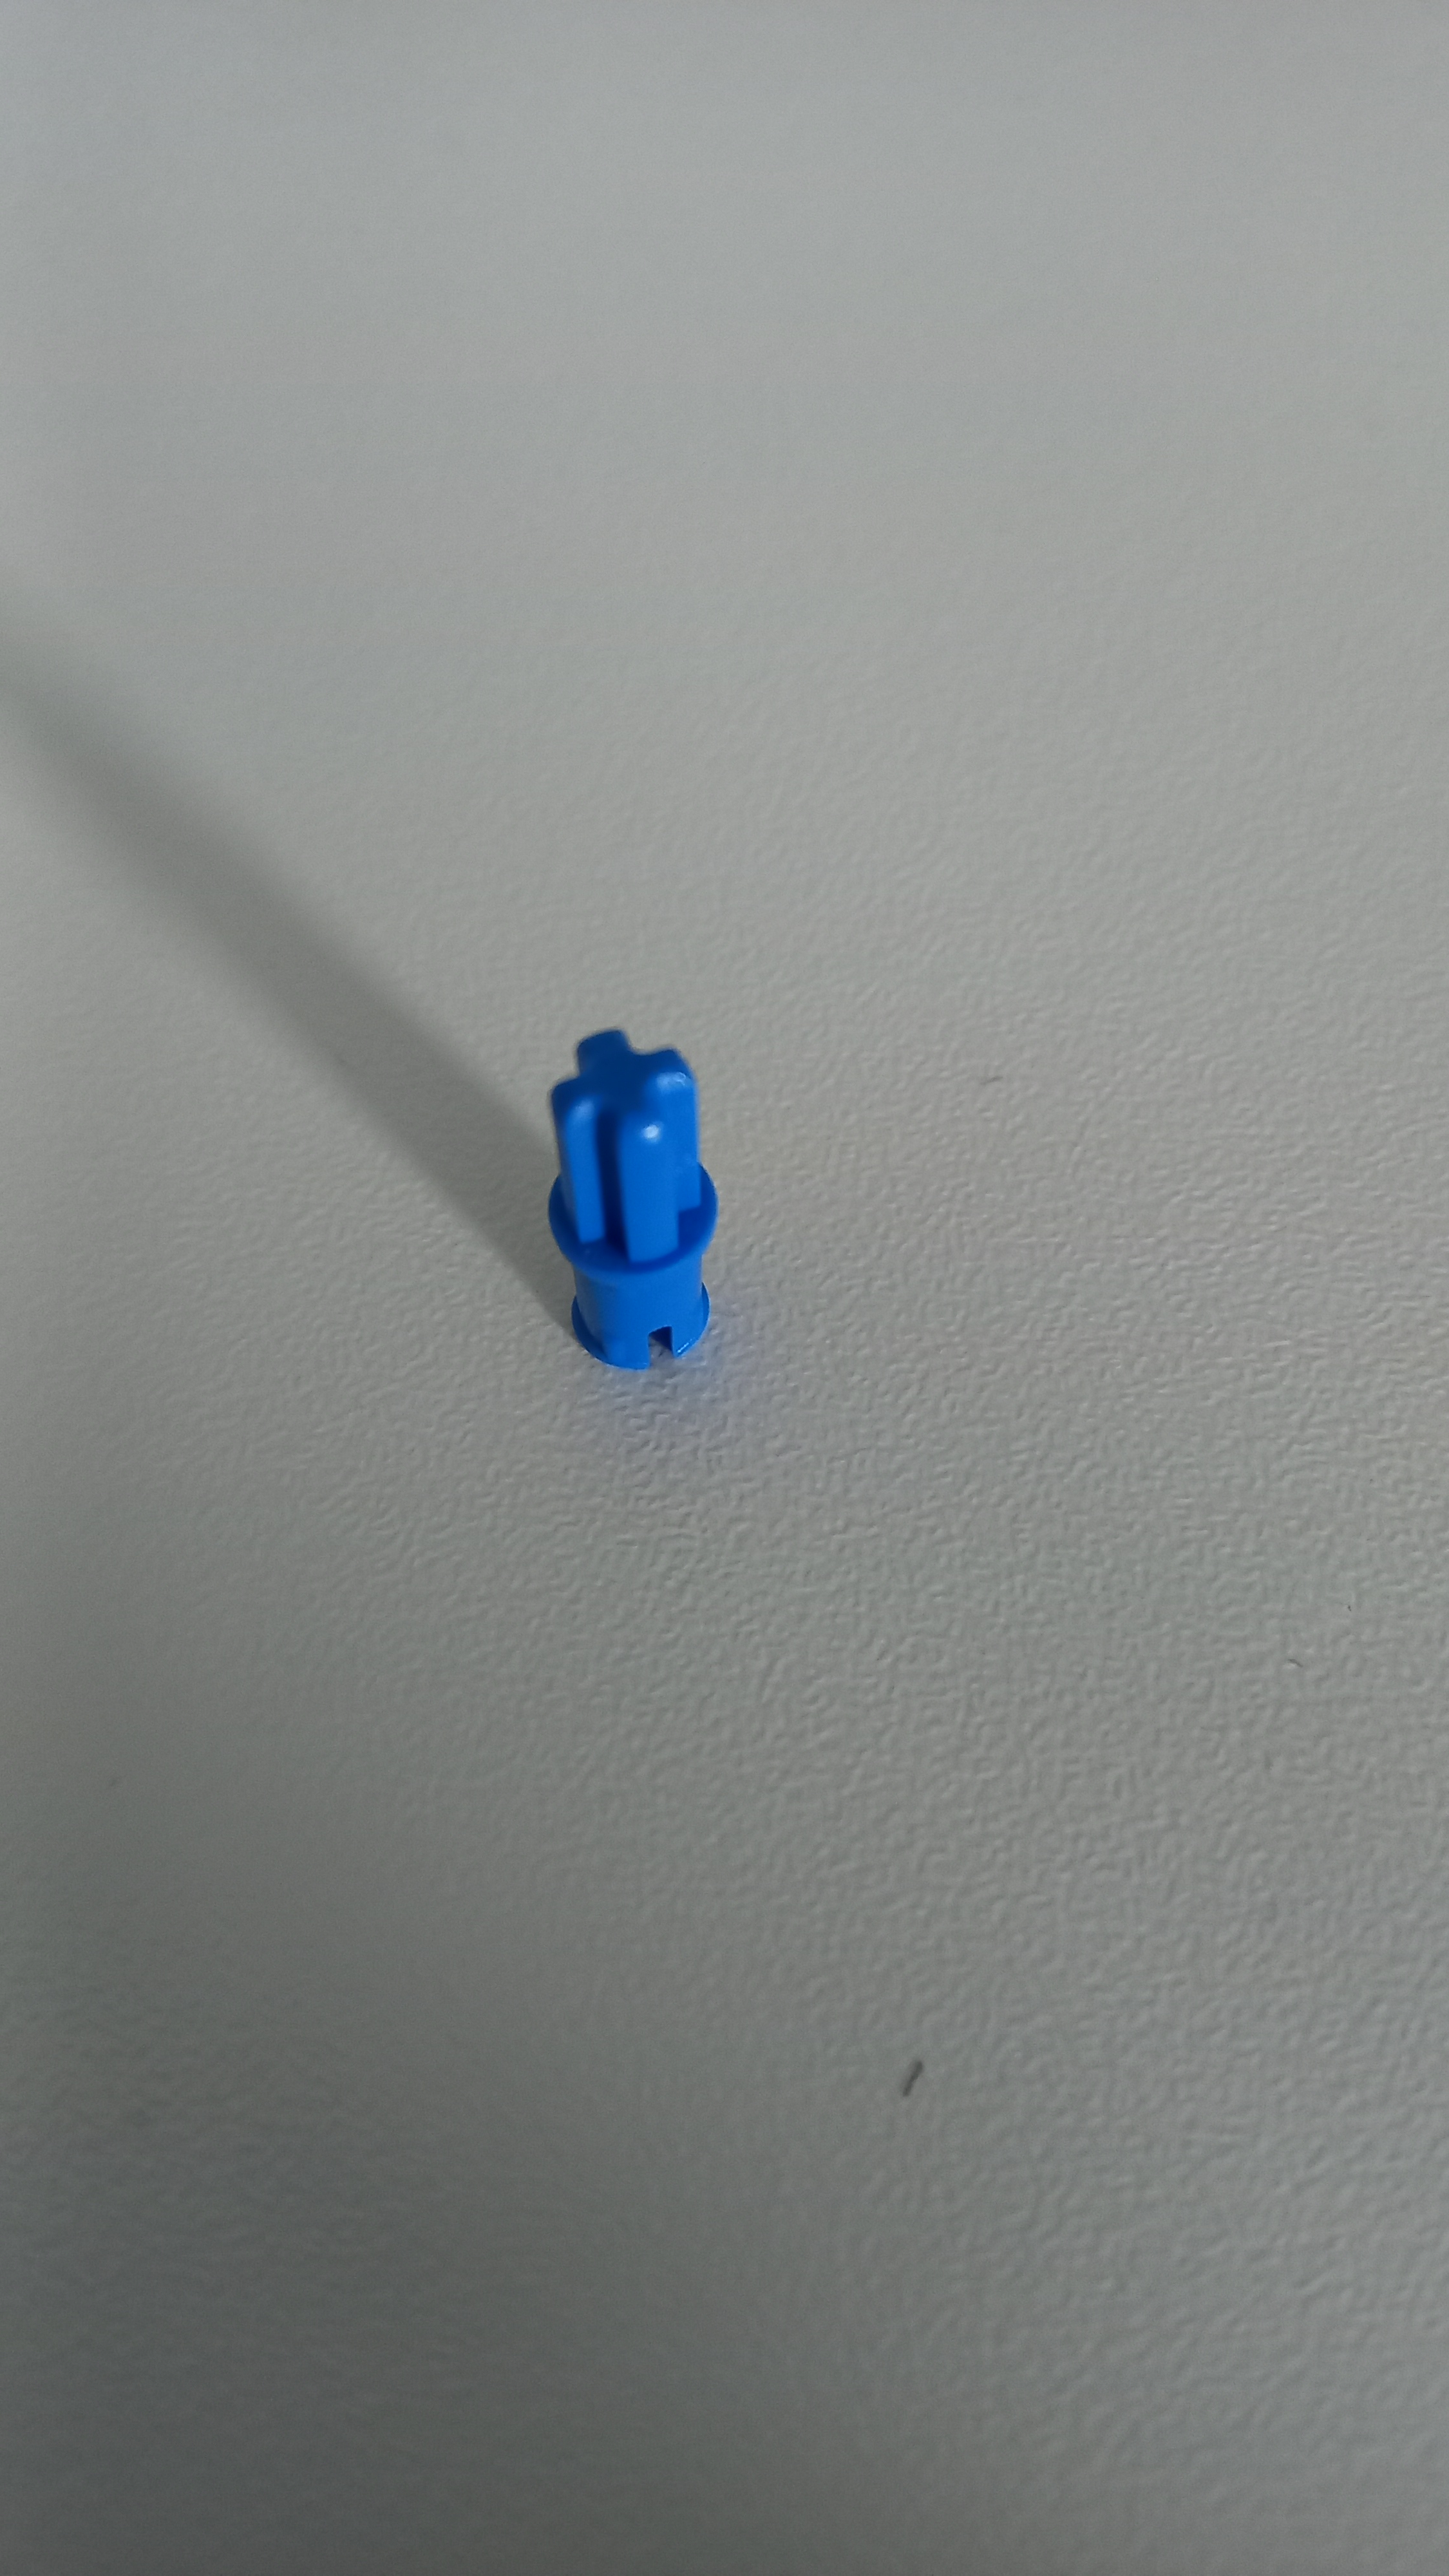Blau: (506, 998, 755, 1412)
